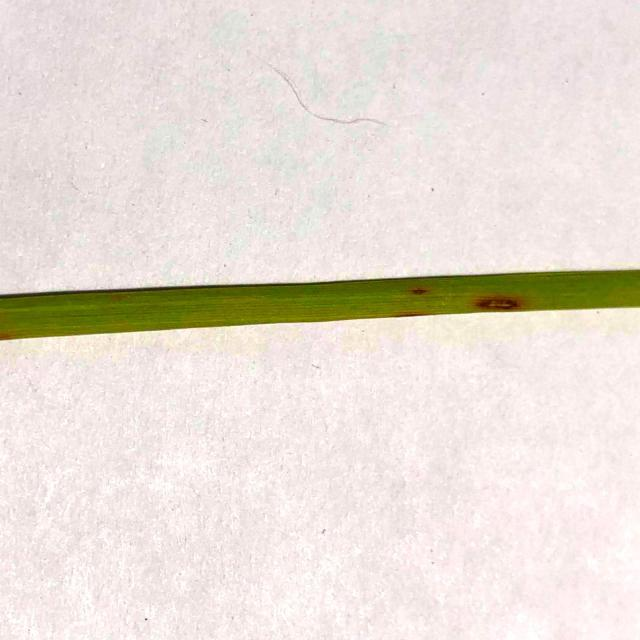Leaf blast: (0, 149, 640, 374)
